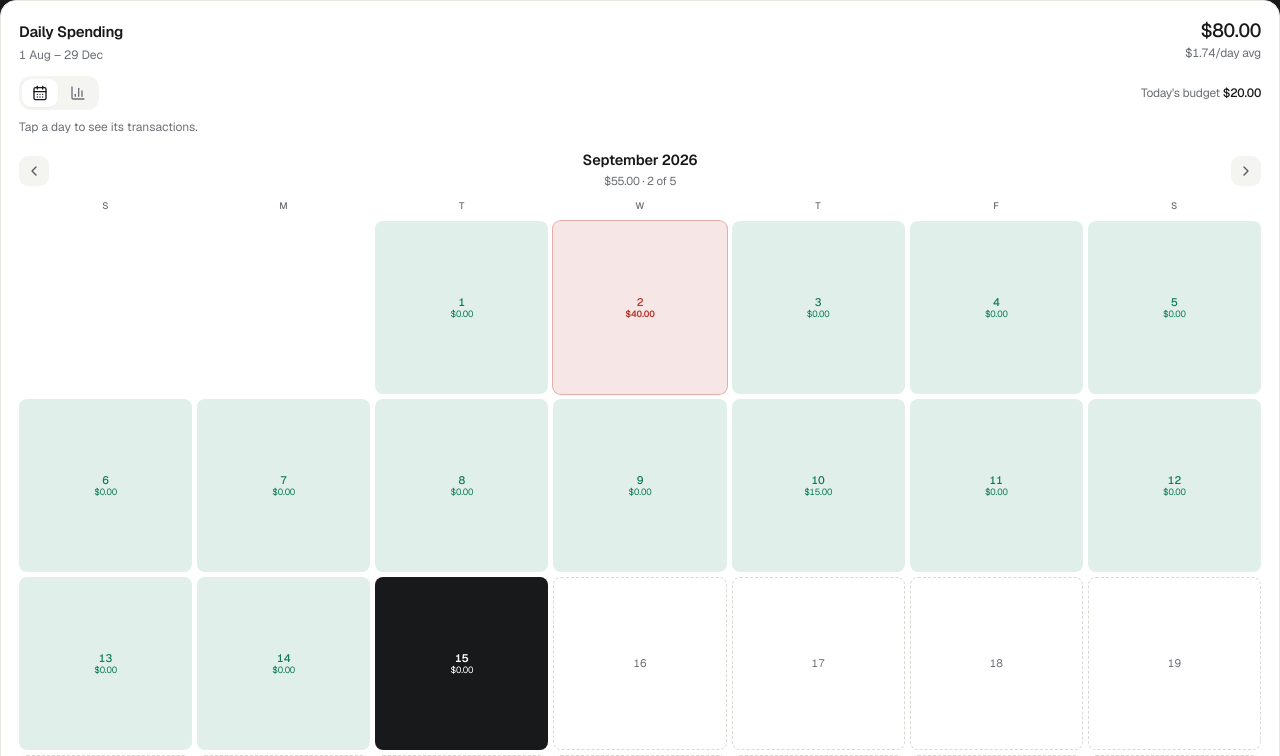
long periods › disable the arrows at each end
The width and height of the screenshot is (1280, 756).
Click the button named "Previous month" at (34, 171), box top-left (19, 156), bottom-right (49, 186)
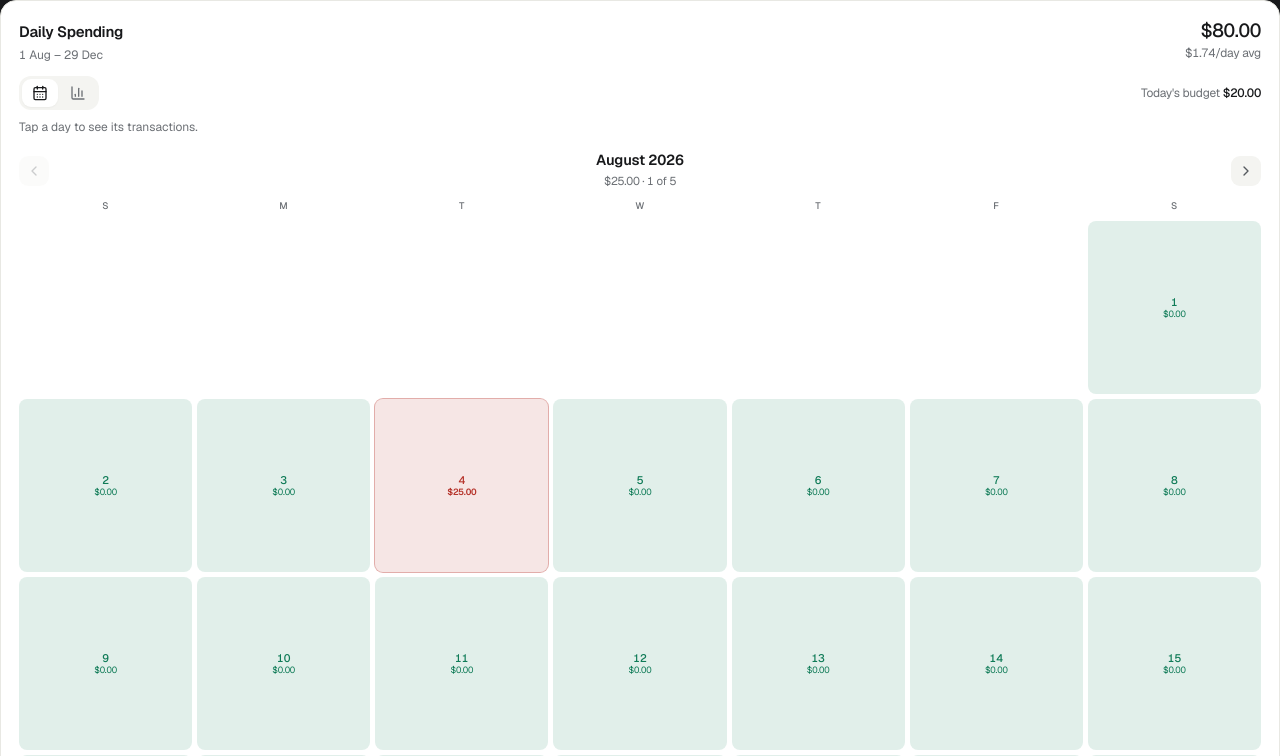
Click the button named "Next month" at (1246, 171), box top-left (1231, 156), bottom-right (1261, 186)
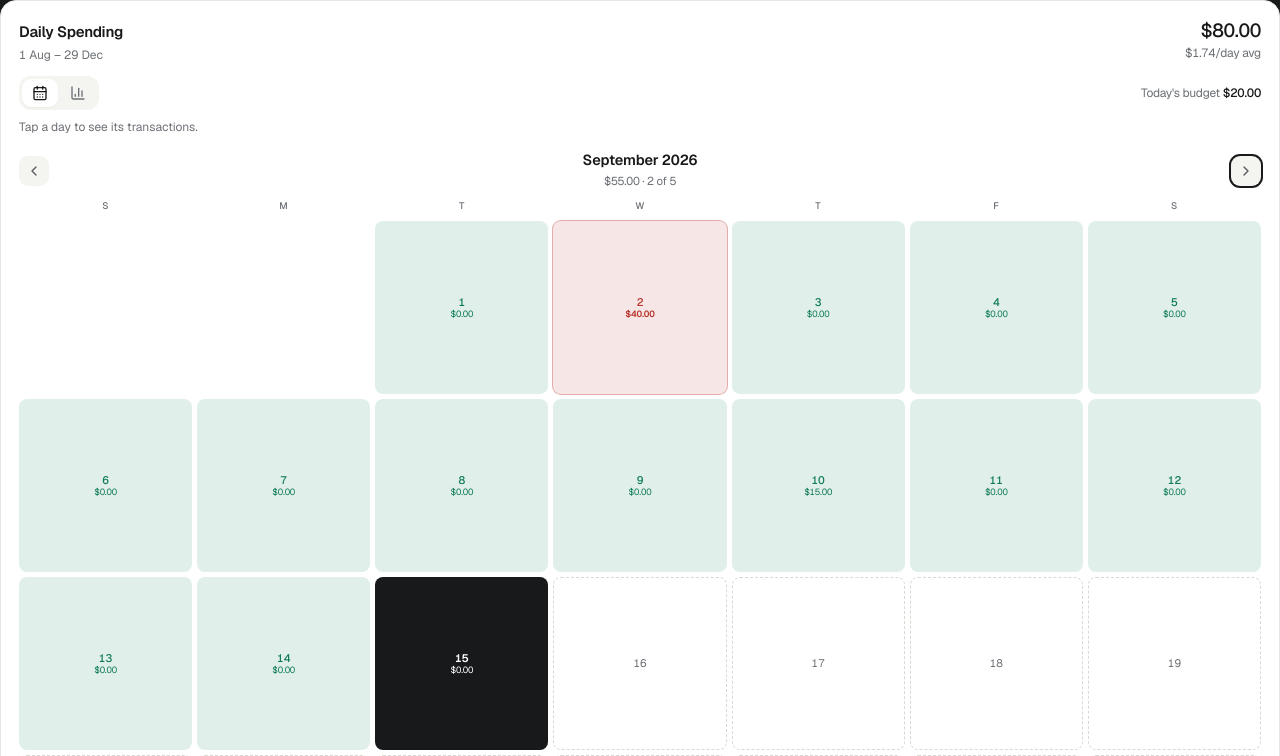
Click the button named "Next month" at (1246, 171), box top-left (1231, 156), bottom-right (1261, 186)
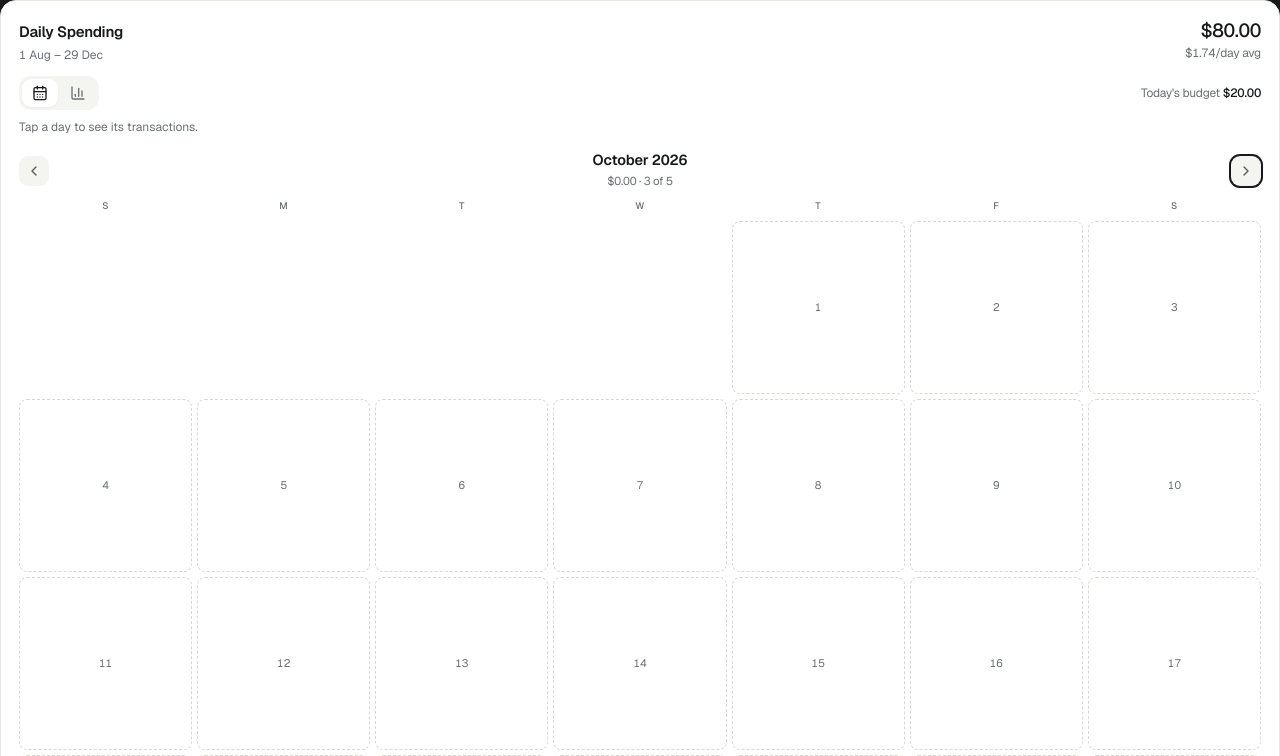
Click the button named "Next month" at (1246, 171), box top-left (1231, 156), bottom-right (1261, 186)
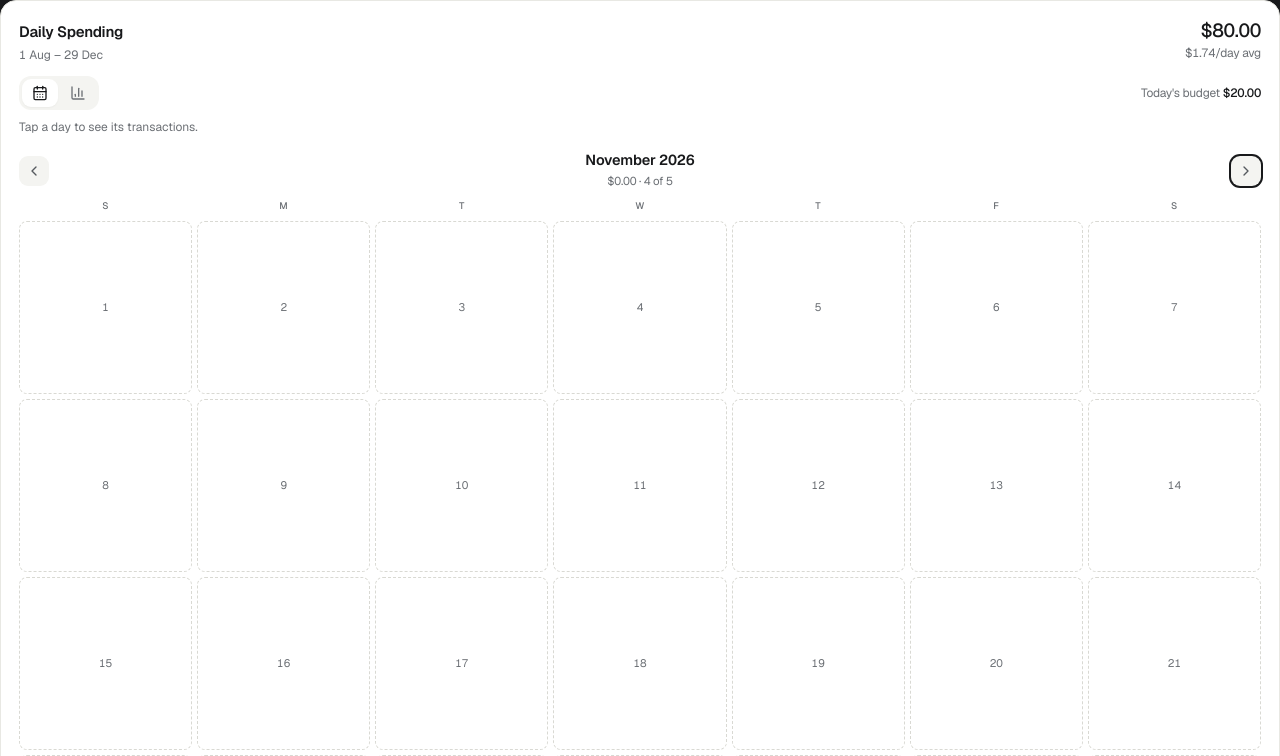
Click the button named "Next month" at (1246, 171), box top-left (1231, 156), bottom-right (1261, 186)
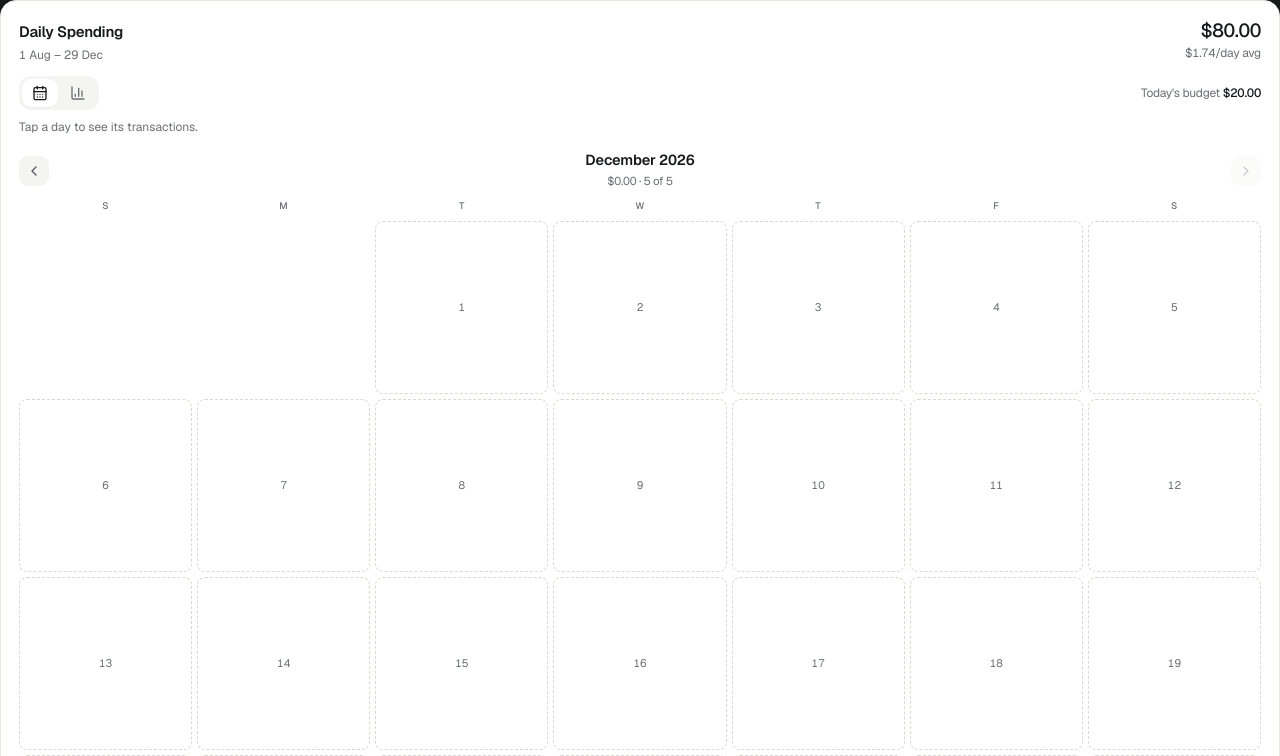
Expected: the text "December 2026" is shown, top-left (585, 153), bottom-right (695, 168)
Expected: the button named "Next month" is disabled, top-left (1231, 156), bottom-right (1261, 186)
